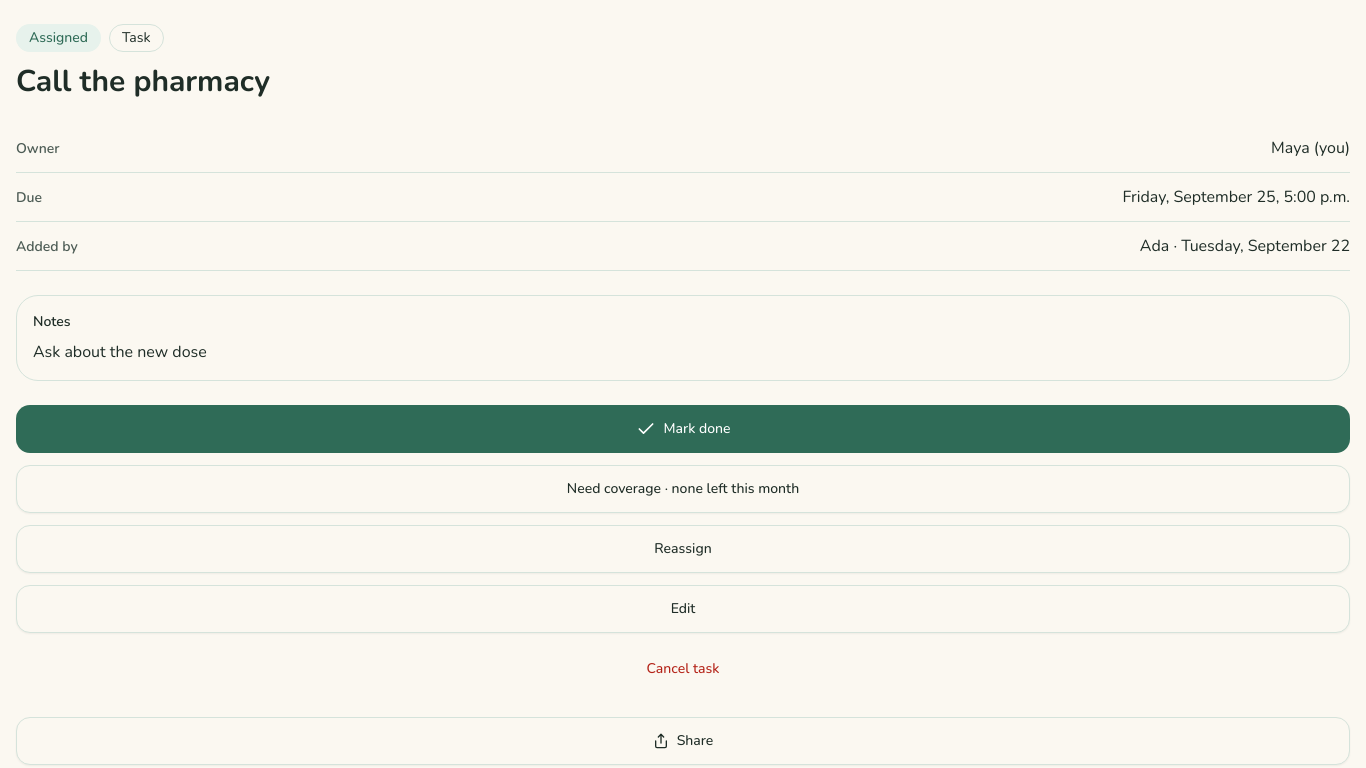
Scenario: with none left, no request is made and the other ways are offered
Step 1. Click the button "Need coverage · none left this month" → {"x": 683, "y": 488}, box [16, 464, 1350, 512]
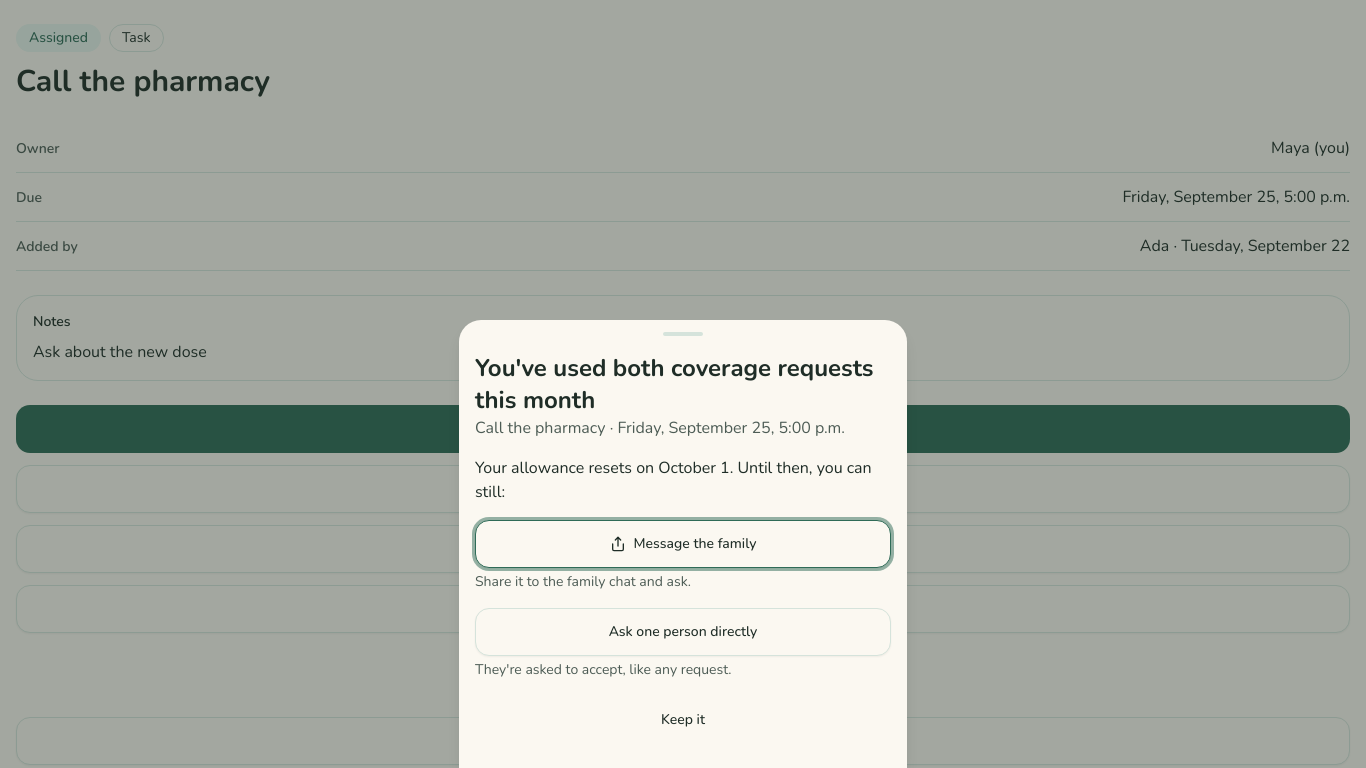
Check: the button "Message the family" is shown, box [475, 520, 891, 568]
Step 2. Click the button "Ask one person directly" → {"x": 683, "y": 632}, box [475, 608, 891, 656]
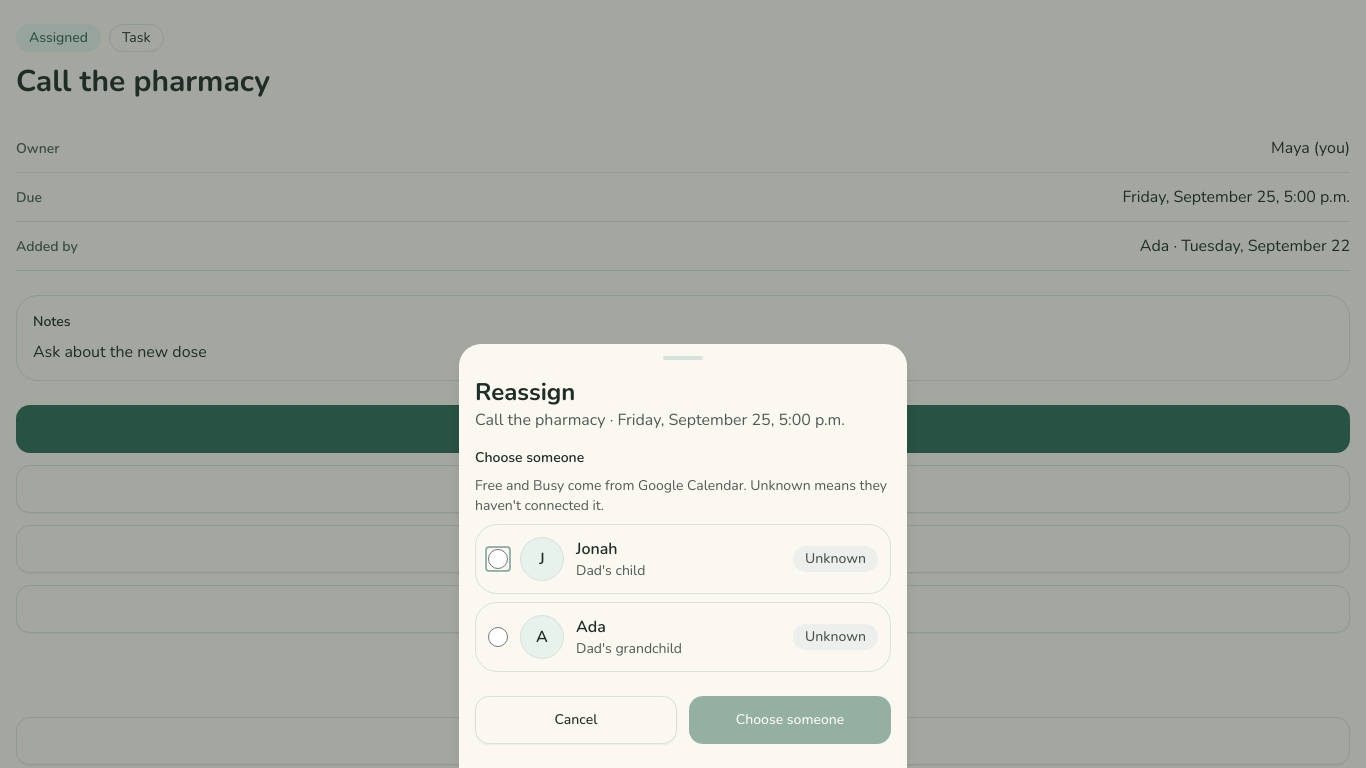
Check: the dialog "Reassign" is shown, box [459, 344, 907, 767]
